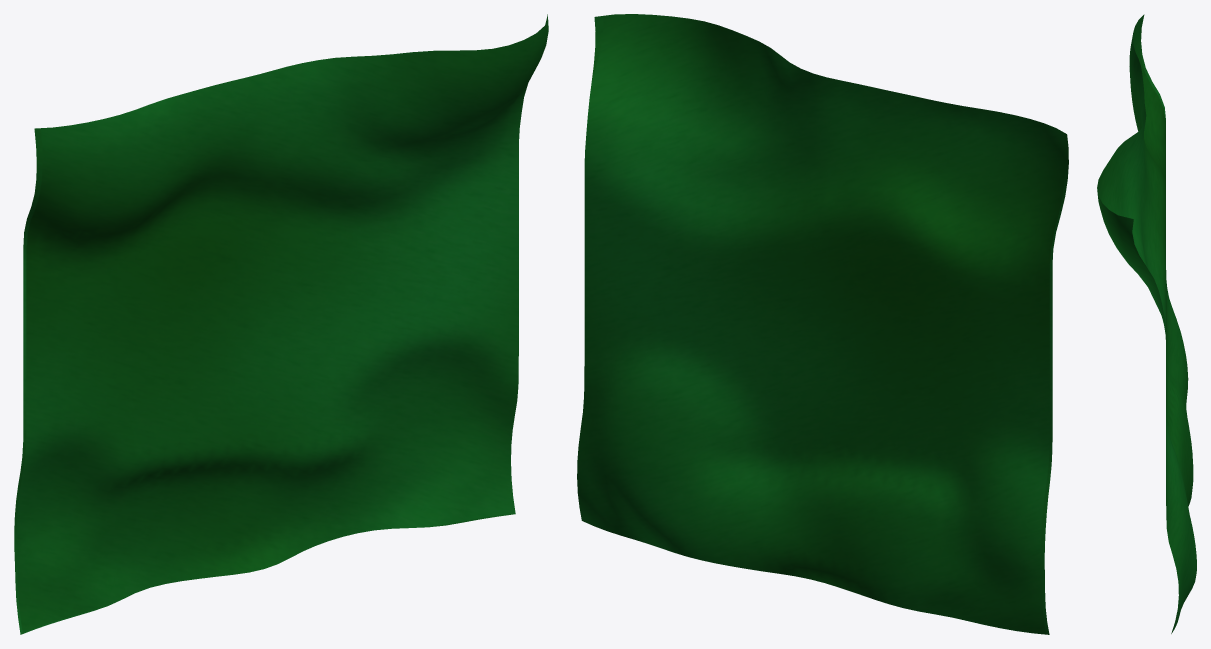
Rendered from land_3dsm.obj.
3 views of the same model, side by side, from view 1: azimuth 30°, elevation 25°; view 2: azimuth 150°, elevation 25°; view 3: azimuth 270°, elevation 25° (orthographic). The views are drawn at different scales.
Parts seen in each view (by area): view 1: default; view 2: default; view 3: default.
Boxes of the visible parts, x1,y1,x2,y2 form: default: (14, 14, 548, 634); default: (577, 14, 1068, 634); default: (1097, 14, 1196, 633).
Size of the model in its own units: 3.07 by 3.02 by 0.6422.
